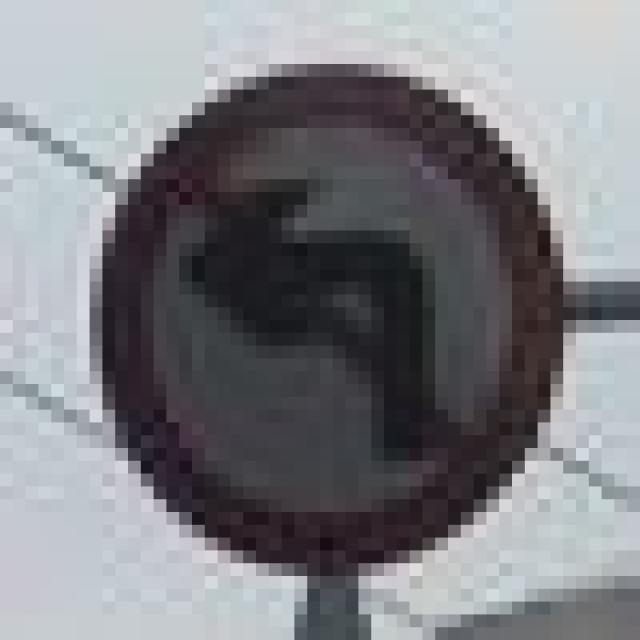do_not_turn_left: (77, 51, 550, 563)
